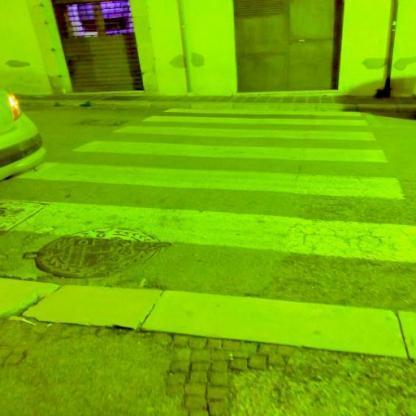crosswalk: (69, 124, 393, 167)
